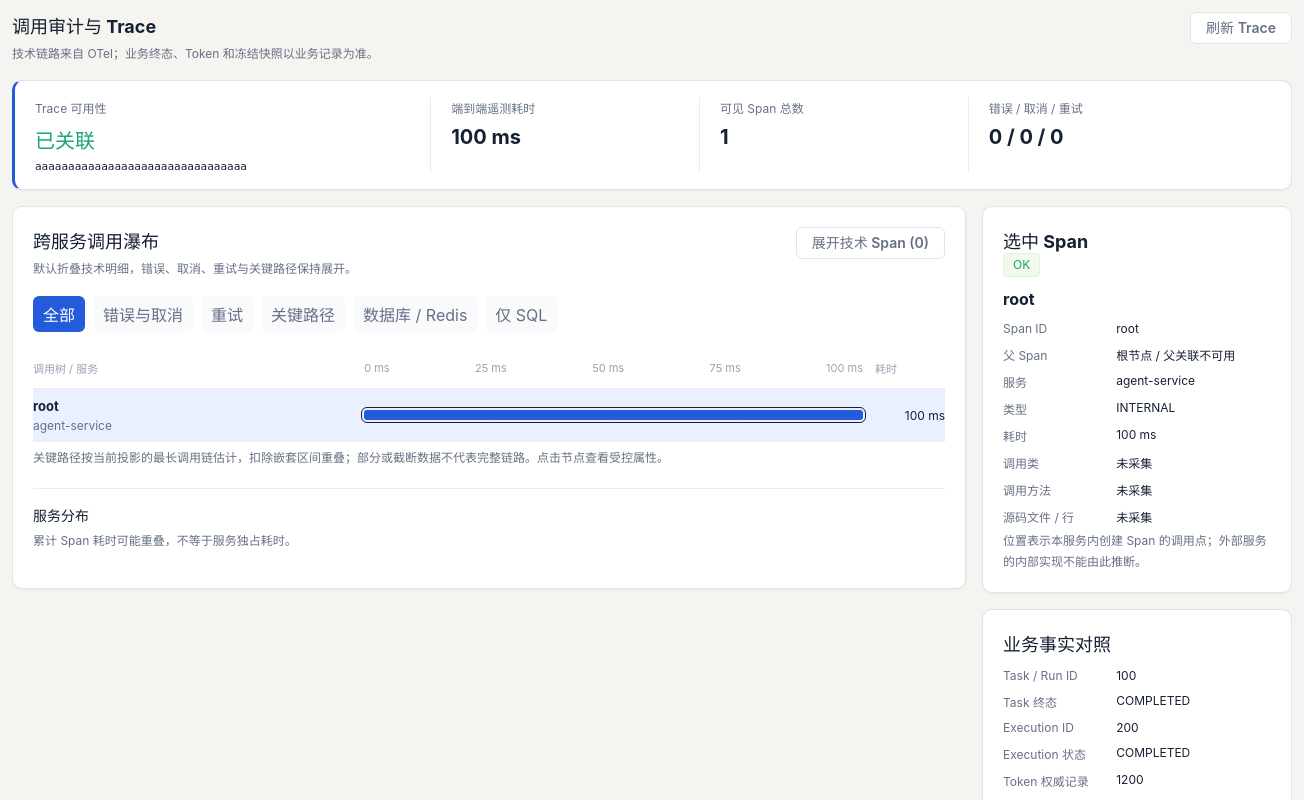
technical Trace and authoritative facts › clears old technical success data after a failed refresh while keeping business facts
The image size is (1304, 800).
Expected: the element with class "span-detail" shows "root", x1=1003 y1=289 x2=1035 y2=309
Click the button "刷新 Trace" at {"x": 1241, "y": 28}, box x1=1190 y1=12 x2=1292 y2=44
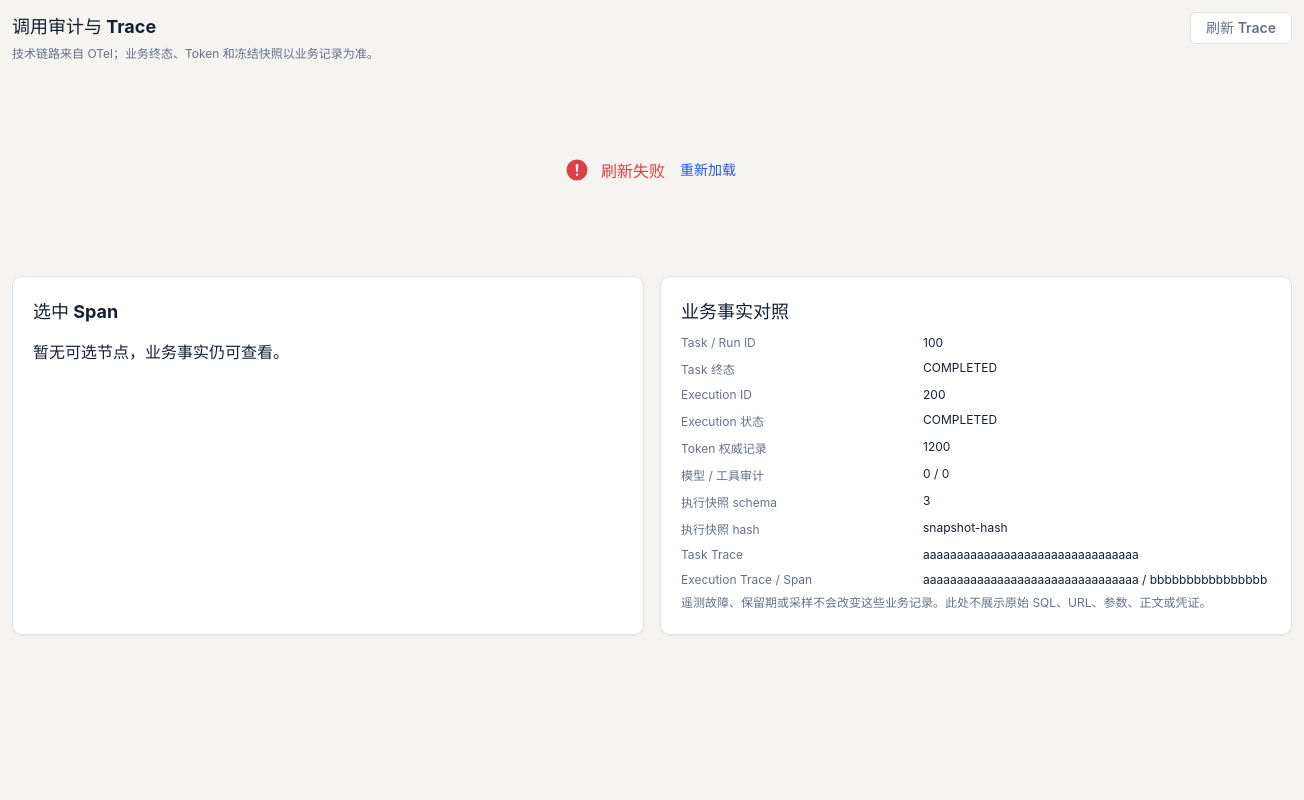
Expected: the element with class "trace-facts" shows "1200", x1=923 y1=439 x2=950 y2=454
Now the button with class "span-detail" no longer shows "root"
